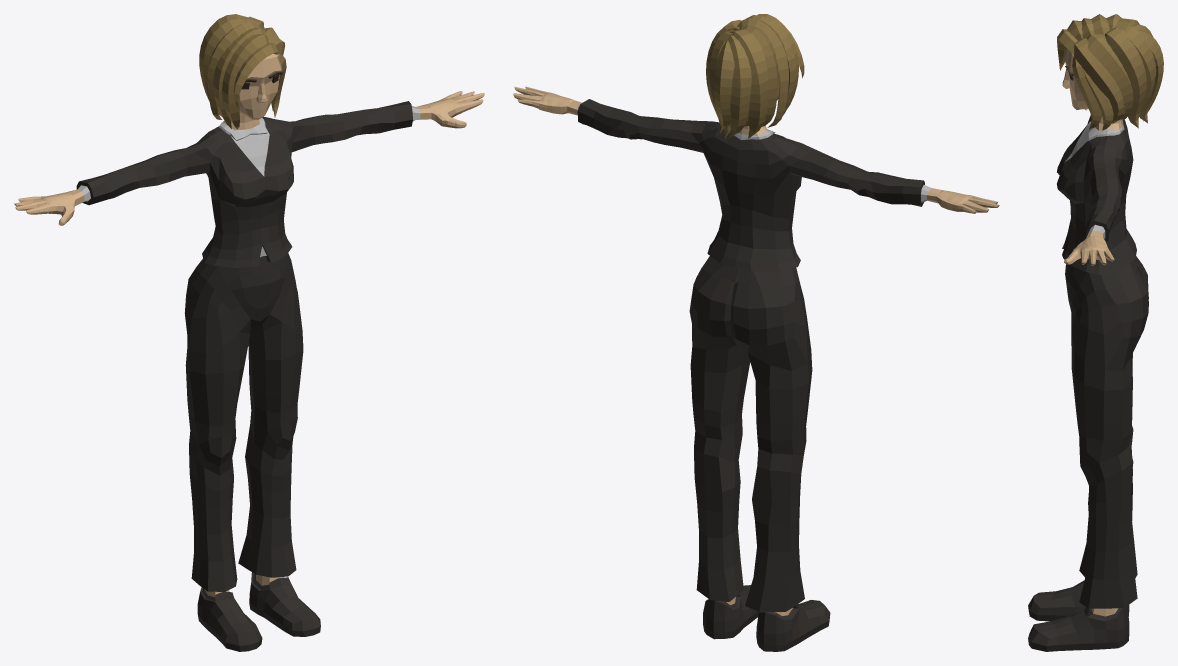
The model's file is business_character_F.fbx.
3 views of the same model, side by side, from view 1: azimuth 30°, elevation 25°; view 2: azimuth 150°, elevation 25°; view 3: azimuth 270°, elevation 25° (orthographic). The views are drawn at different scales.
Visible parts, largest first — view 1: Suit_Legs.001, Suit_Body.002, Suit_Body.001, Suit_Head.001, Suit_Feet.001; view 2: Suit_Legs.001, Suit_Body.002, Suit_Head.001, Suit_Body.001, Suit_Feet.001; view 3: Suit_Legs.001, Suit_Head.001, Suit_Body.001, Suit_Feet.001, Suit_Body.002.
Part boxes in pixels (box(x1,y1,x2,y2)): Suit_Legs.001: box(184, 253, 303, 591); Suit_Body.002: box(14, 120, 265, 267); Suit_Body.001: box(249, 91, 484, 262); Suit_Head.001: box(199, 14, 286, 129); Suit_Feet.001: box(197, 572, 320, 651); Suit_Legs.001: box(689, 256, 812, 611); Suit_Body.002: box(735, 126, 999, 271); Suit_Head.001: box(706, 14, 804, 139); Suit_Body.001: box(513, 86, 742, 266); Suit_Feet.001: box(703, 585, 830, 651); Suit_Legs.001: box(1065, 256, 1148, 608); Suit_Head.001: box(1057, 14, 1163, 130); Suit_Body.001: box(1057, 119, 1136, 274); Suit_Feet.001: box(1028, 580, 1129, 651); Suit_Body.002: box(1057, 114, 1136, 249).
Bounding box in the file's own units: 152 × 185 × 37.12.
